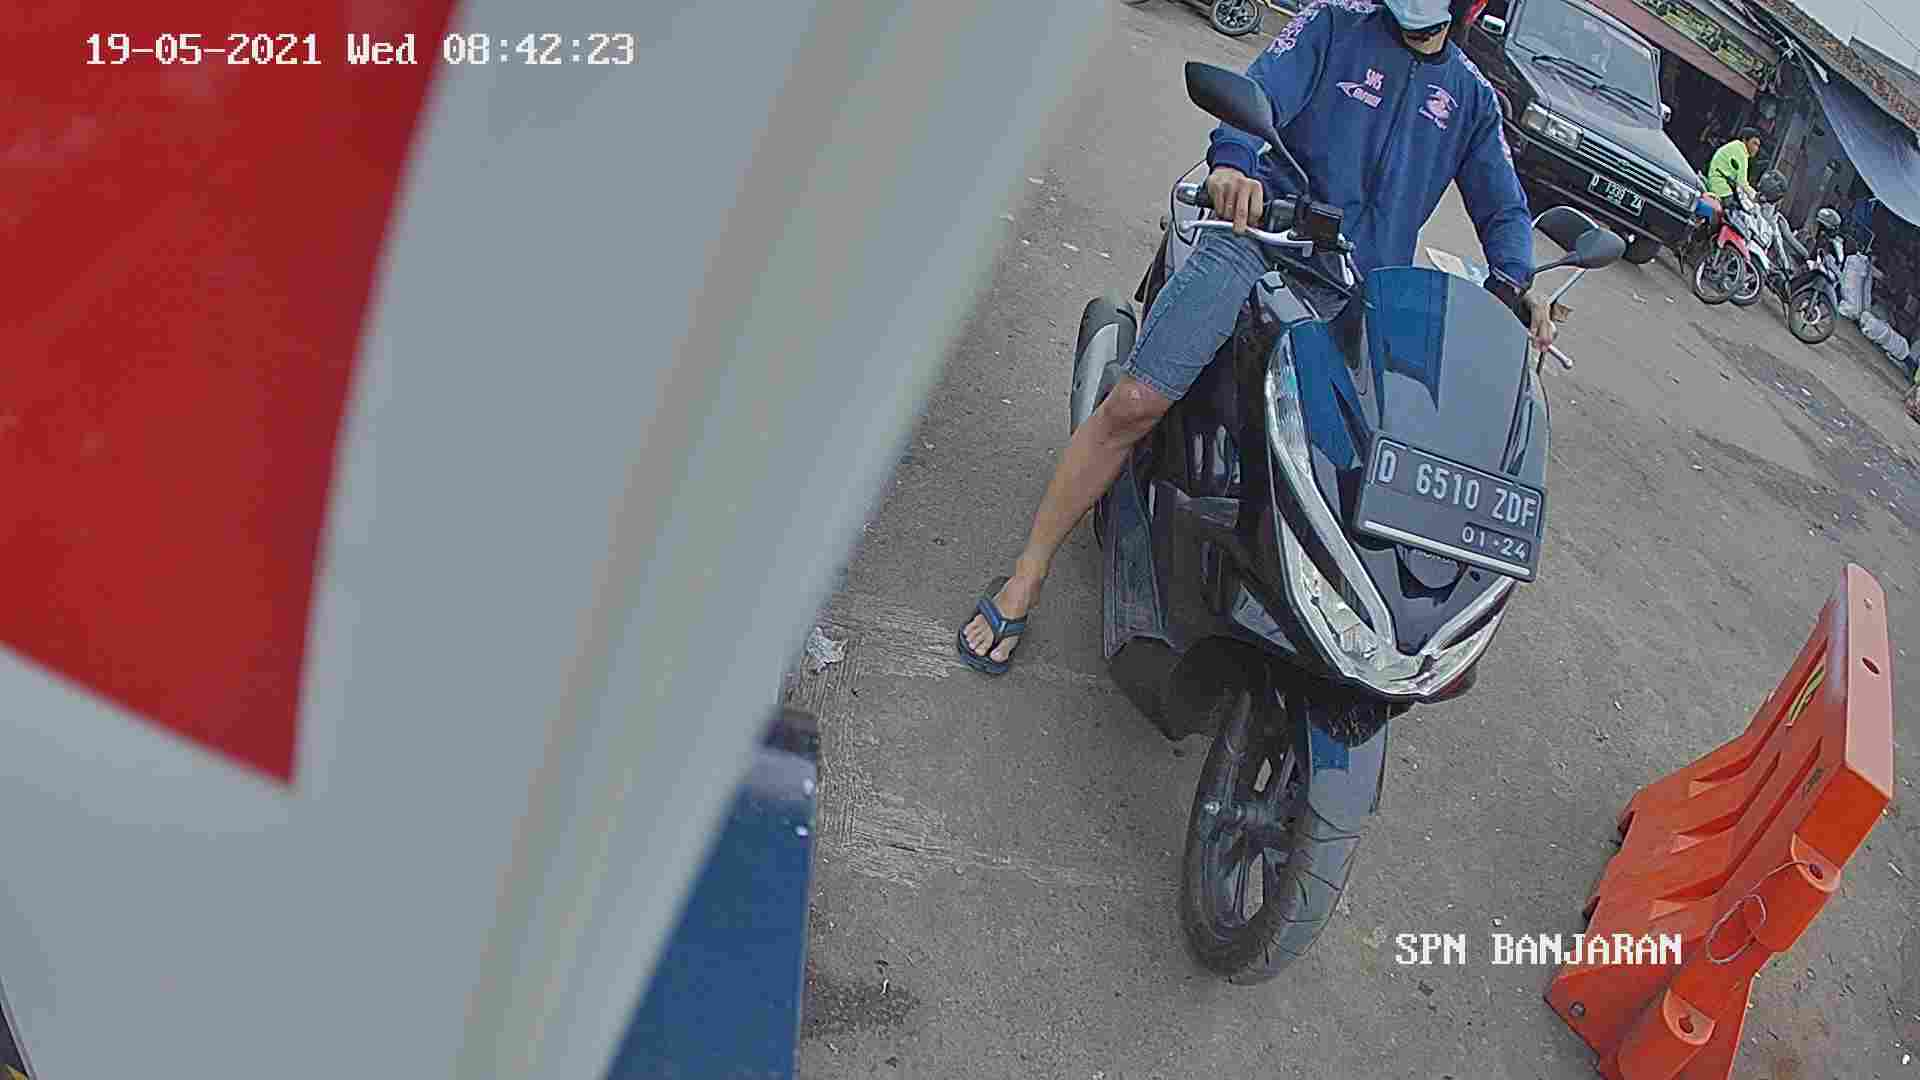motor: (1092, 156, 1514, 971)
